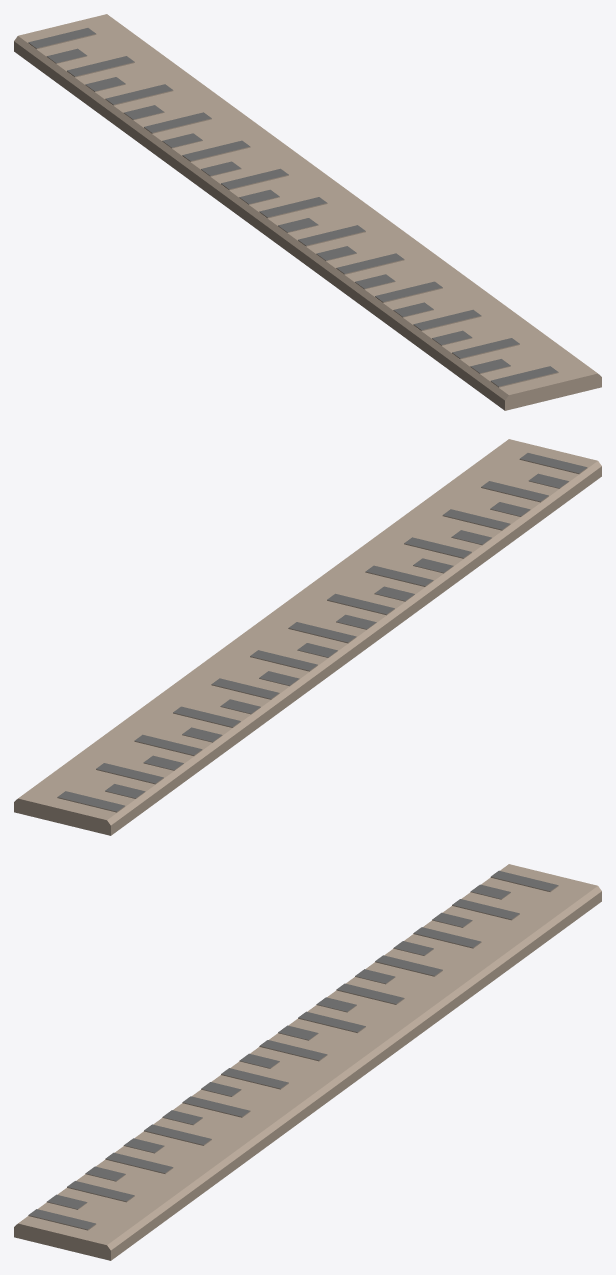
The model's file is ruler_ud.fbx.
The picture shows the model from 3 angles, top to bottom: view 1: azimuth 30°, elevation 25°; view 2: azimuth 150°, elevation 25°; view 3: azimuth 330°, elevation 25°; orthographic projection.
Parts seen in each view (by area): view 1: Cube; view 2: Cube; view 3: Cube.
Boxes of the visible parts, x1=… form: Cube: x1=14, y1=14, x2=601, y2=410; Cube: x1=14, y1=439, x2=601, y2=835; Cube: x1=14, y1=864, x2=601, y2=1260.
Size of the model in its own units: 27.91 by 4.32 by 245.
